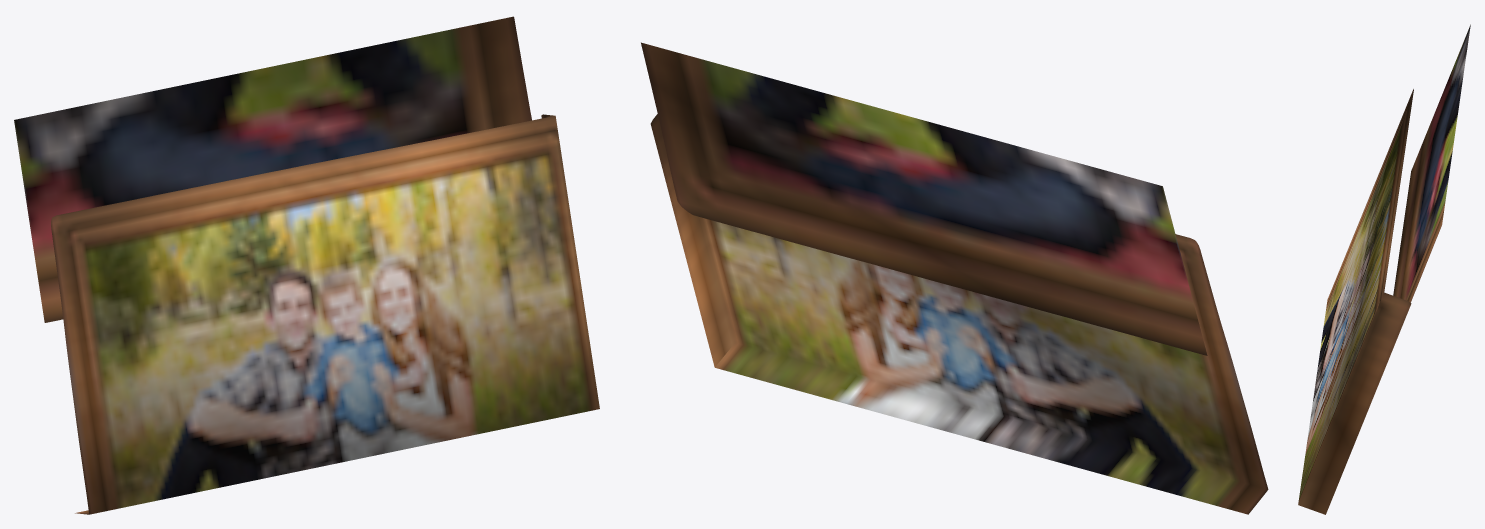
The model's file is G_NaErSenEeZiDeFangJian_zhaopian_01.FBX.
The picture shows the model from 3 angles, left to right: view 1: azimuth 30°, elevation 25°; view 2: azimuth 150°, elevation 25°; view 3: azimuth 270°, elevation 25°; orthographic projection. The views are drawn at different scales.
Visible parts, largest first — view 1: NaErSenErZideFangJian_zhaopian_01; view 2: NaErSenErZideFangJian_zhaopian_01; view 3: NaErSenErZideFangJian_zhaopian_01.
Part boxes in pixels (x1,y1,x2,y2): NaErSenErZideFangJian_zhaopian_01: (14,16,599,514); NaErSenErZideFangJian_zhaopian_01: (641,42,1268,514); NaErSenErZideFangJian_zhaopian_01: (1298,24,1470,514).
Bounding box in the file's own units: 282 × 189 × 98.49.
